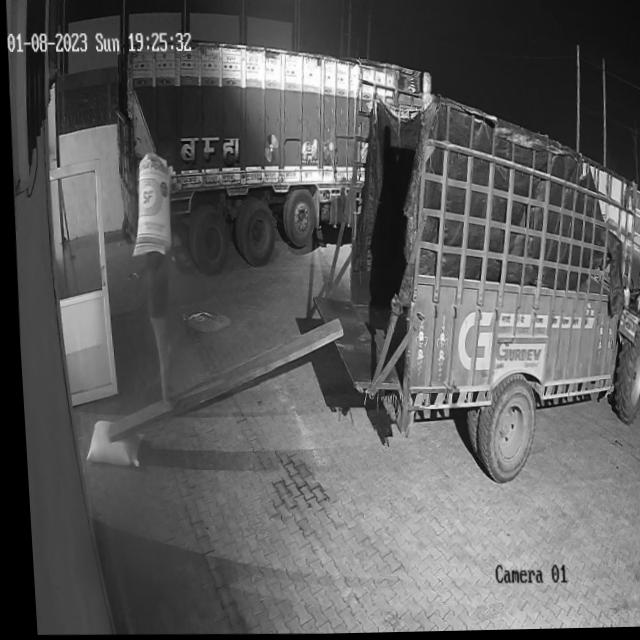sack: (123, 153, 173, 256), (79, 417, 139, 466)
